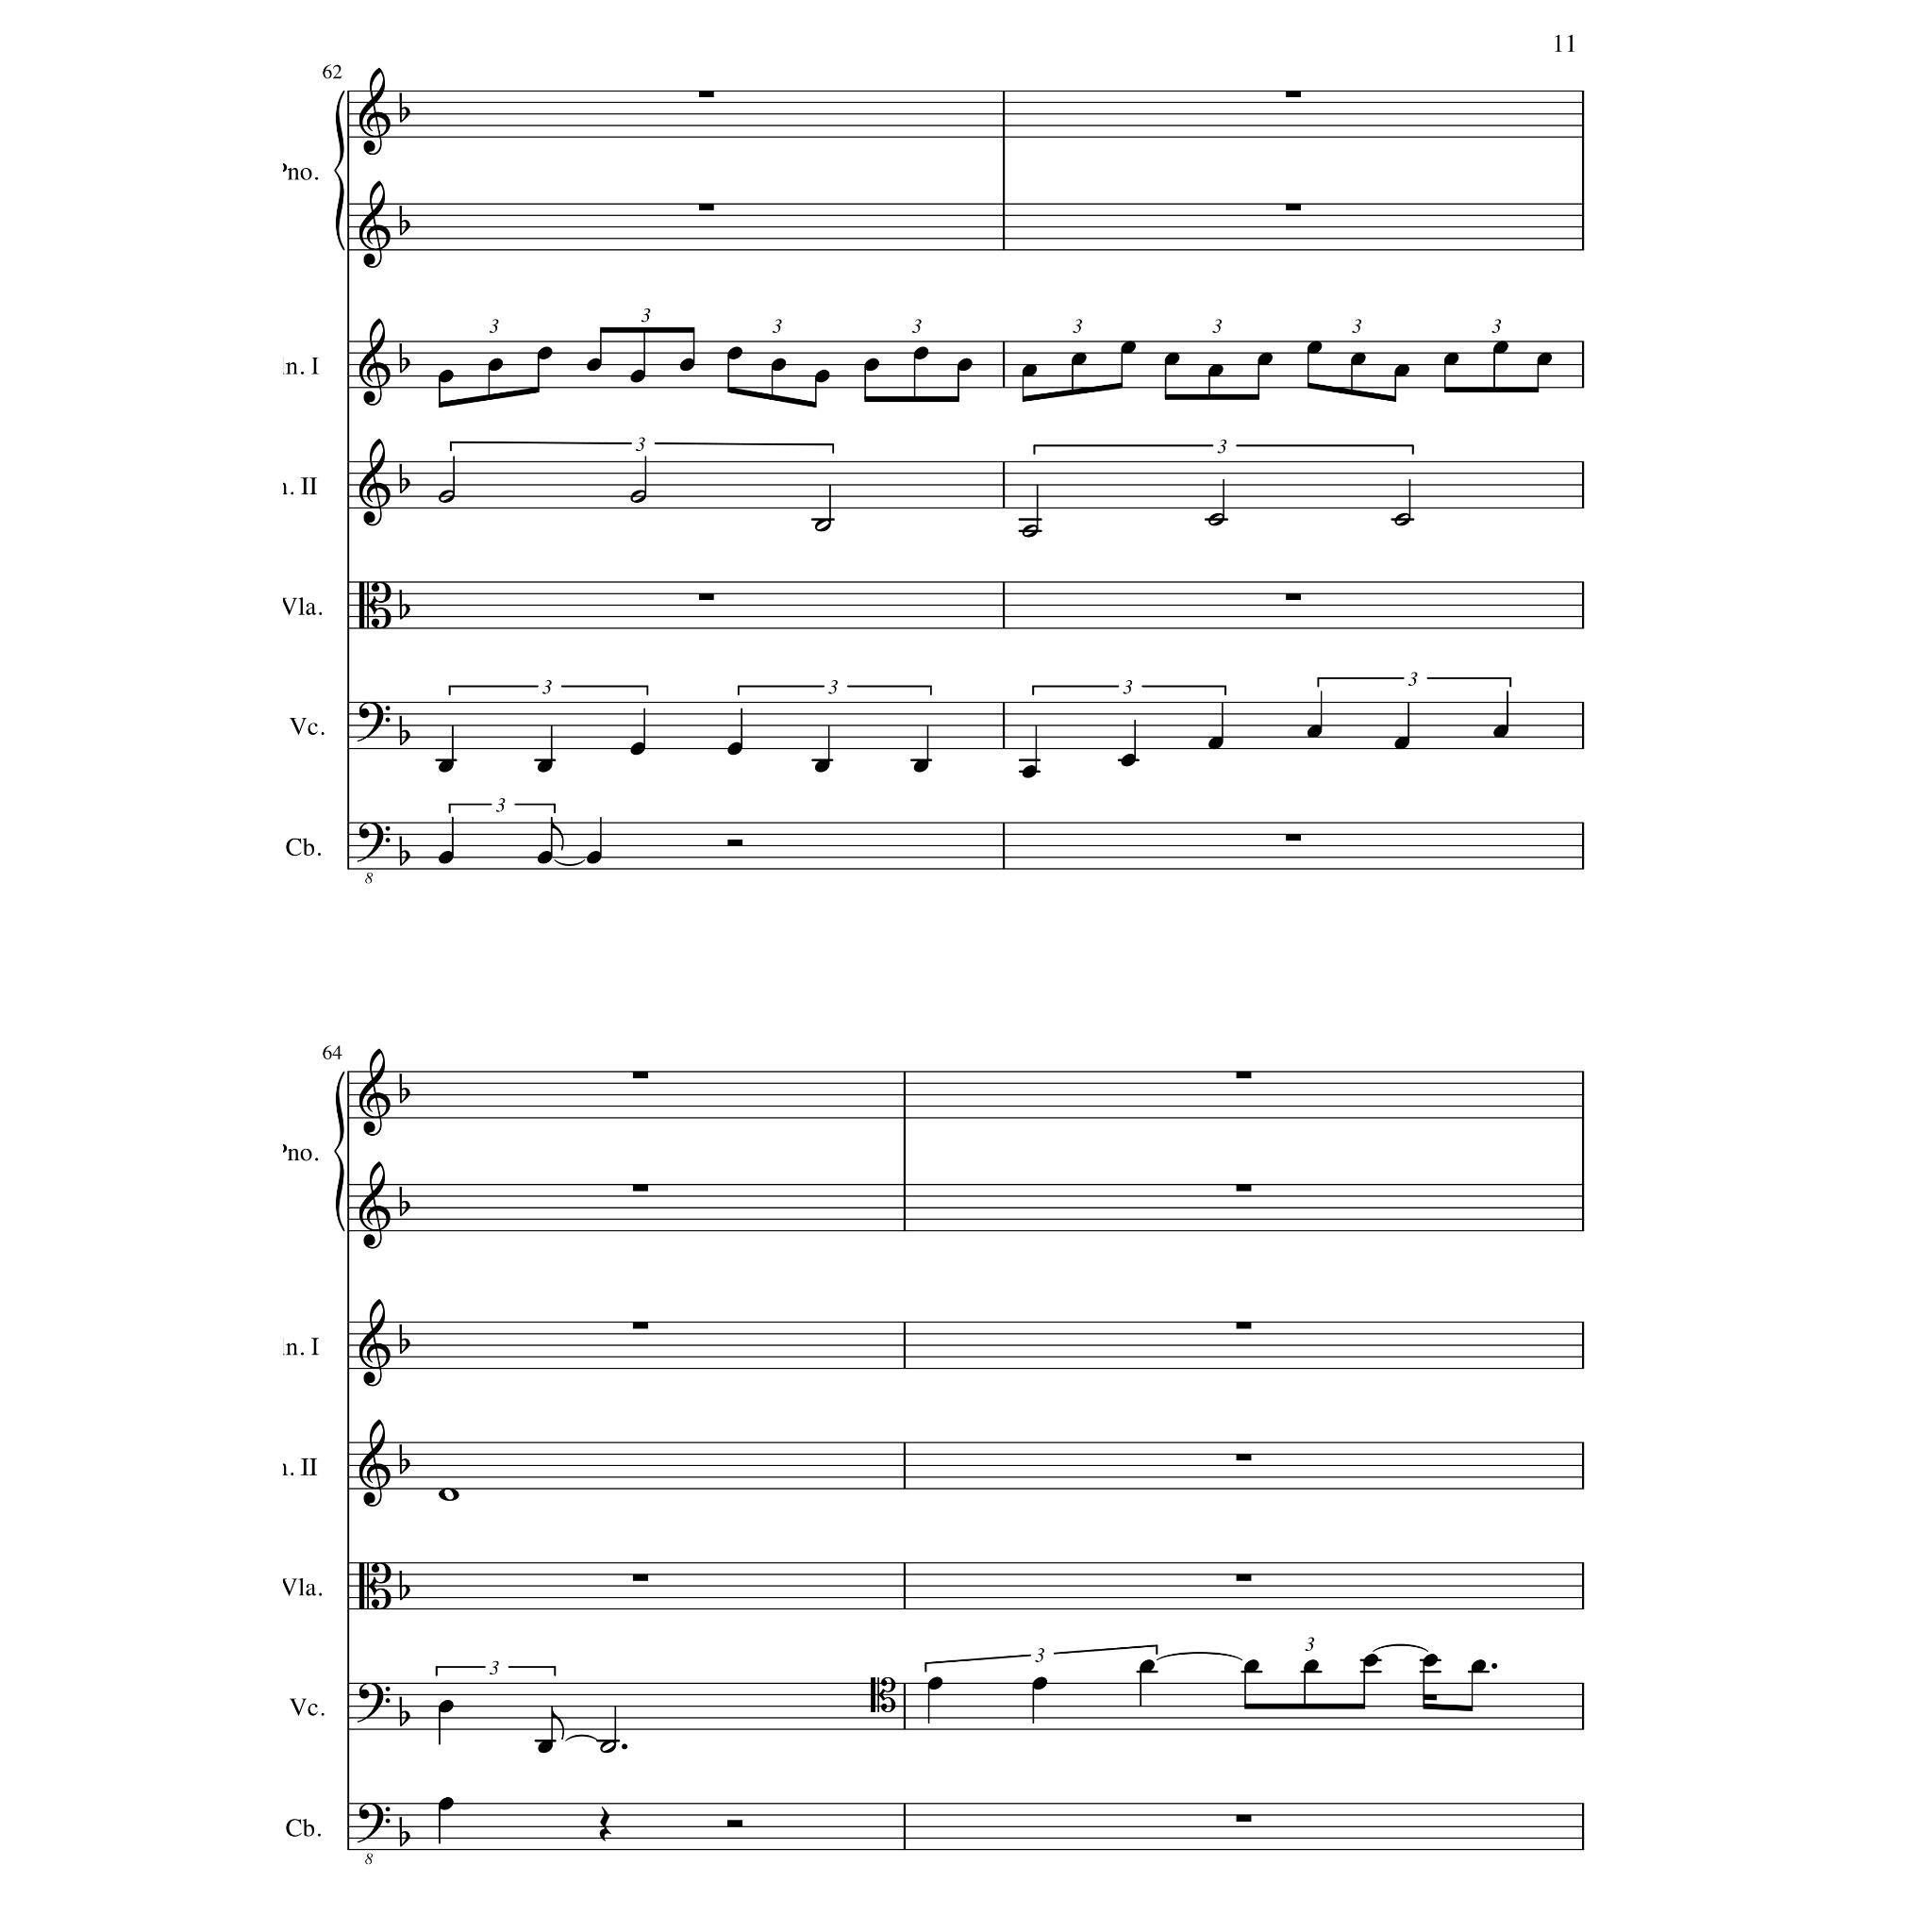brace: (333, 90, 345, 251), (333, 1070, 345, 1231)
fClef: (357, 823, 391, 863), (357, 702, 391, 743), (357, 1683, 391, 1723), (357, 1803, 391, 1844)
flag8thUp: (550, 817, 564, 851), (550, 1707, 564, 1741)
gClef: (359, 1047, 391, 1138), (359, 439, 391, 527), (359, 318, 391, 407), (359, 180, 391, 269), (359, 67, 391, 156), (359, 1161, 391, 1249), (359, 1299, 391, 1387), (359, 1419, 391, 1507)
noteheadBlack: (1256, 352, 1274, 366), (1207, 364, 1223, 379), (1207, 736, 1223, 750), (1164, 352, 1180, 366), (1350, 352, 1366, 366), (1306, 725, 1322, 740), (1120, 754, 1136, 768), (1394, 364, 1410, 379), (1070, 352, 1086, 366), (1444, 352, 1460, 366), (1493, 725, 1509, 740), (1394, 736, 1410, 750), (1536, 352, 1552, 366), (437, 759, 453, 773), (536, 759, 552, 773), (536, 347, 552, 361), (814, 759, 830, 773), (913, 759, 929, 773), (913, 347, 929, 361), (1021, 364, 1037, 379), (1021, 764, 1037, 778), (727, 347, 743, 361), (1362, 1652, 1378, 1667), (1422, 1652, 1438, 1667), (437, 1796, 453, 1810), (1306, 341, 1322, 354), (1120, 341, 1136, 354), (1493, 341, 1509, 354), (487, 359, 502, 372), (437, 851, 453, 863), (437, 370, 453, 382), (586, 359, 602, 372), (536, 851, 552, 863), (586, 851, 602, 863), (814, 370, 830, 382), (770, 359, 786, 372), (863, 359, 879, 372), (630, 743, 646, 755), (630, 370, 646, 382), (955, 359, 971, 372), (727, 743, 743, 755), (679, 359, 695, 372), (1139, 1660, 1155, 1672), (1244, 1660, 1260, 1672), (1304, 1660, 1320, 1672), (1031, 1677, 1047, 1690), (1470, 1660, 1486, 1672), (927, 1677, 943, 1690), (437, 1700, 453, 1713), (538, 1741, 554, 1753)
noteheadHalf: (1207, 513, 1224, 527), (814, 518, 832, 533), (1021, 524, 1039, 538), (1394, 513, 1410, 527), (437, 490, 455, 502), (630, 490, 646, 502), (600, 1741, 616, 1753)
noteheadWhole: (437, 1488, 458, 1502)
restHalf: (727, 839, 743, 846), (727, 1821, 743, 1828)
restQuarter: (598, 1806, 610, 1842)
restWhole: (1284, 833, 1302, 842), (1284, 593, 1302, 602), (697, 593, 713, 602), (633, 1573, 649, 1582), (1235, 1573, 1251, 1582), (1284, 203, 1302, 211), (1284, 90, 1302, 97), (697, 203, 713, 211), (697, 90, 713, 97), (633, 1072, 649, 1079), (633, 1184, 649, 1191), (633, 1322, 649, 1329), (1235, 1072, 1251, 1079), (1235, 1184, 1251, 1191), (1235, 1322, 1251, 1329), (1235, 1454, 1251, 1461), (1235, 1815, 1251, 1822)
